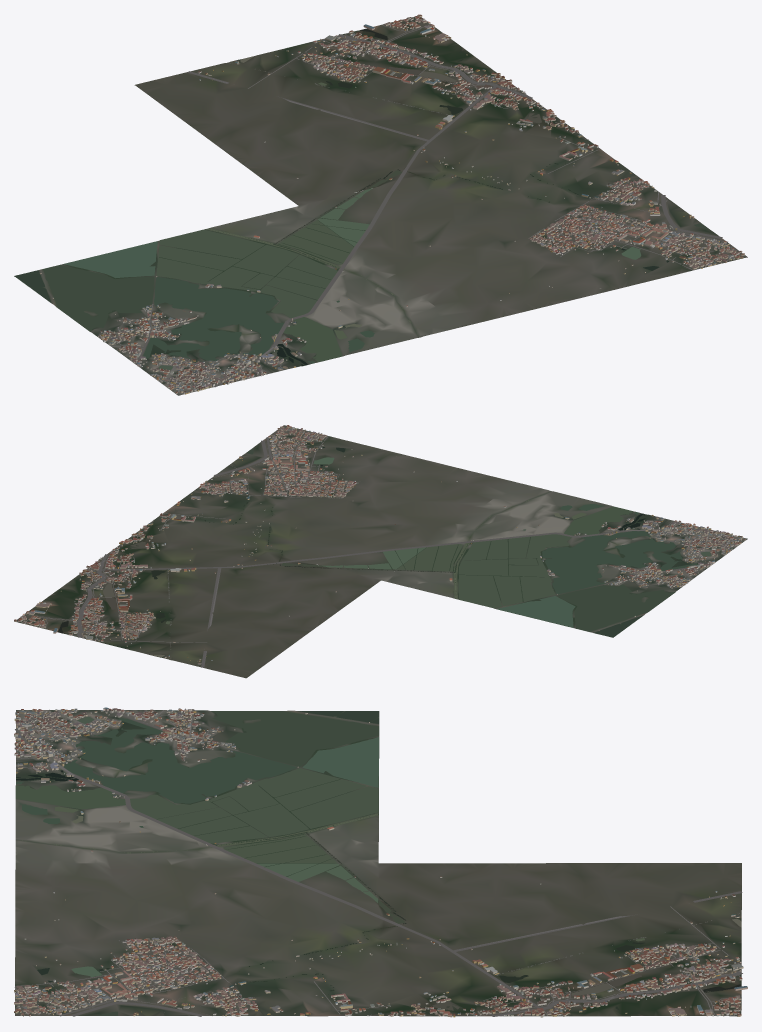
3 views of the same model, one above another, from view 1: azimuth 30°, elevation 25°; view 2: azimuth 150°, elevation 25°; view 3: azimuth 270°, elevation 25° (orthographic). The views are drawn at different scales.
Visible parts, largest first — view 1: ground, water, buildings, roads; view 2: ground, water, buildings, roads; view 3: ground, water, buildings, roads.
Boxes of the visible parts, x1,y1,x2,y2 form: ground: [14, 17, 747, 395]; water: [15, 28, 709, 370]; buildings: [40, 14, 744, 394]; roads: [110, 20, 740, 391]; ground: [16, 425, 747, 678]; water: [58, 447, 710, 659]; buildings: [14, 425, 745, 664]; roads: [17, 430, 740, 667]; ground: [15, 710, 741, 1016]; water: [16, 711, 741, 1015]; buildings: [14, 707, 747, 1017]; roads: [14, 709, 742, 1016].
Size of the model in its own units: 2813 by 26.8 by 2833.
